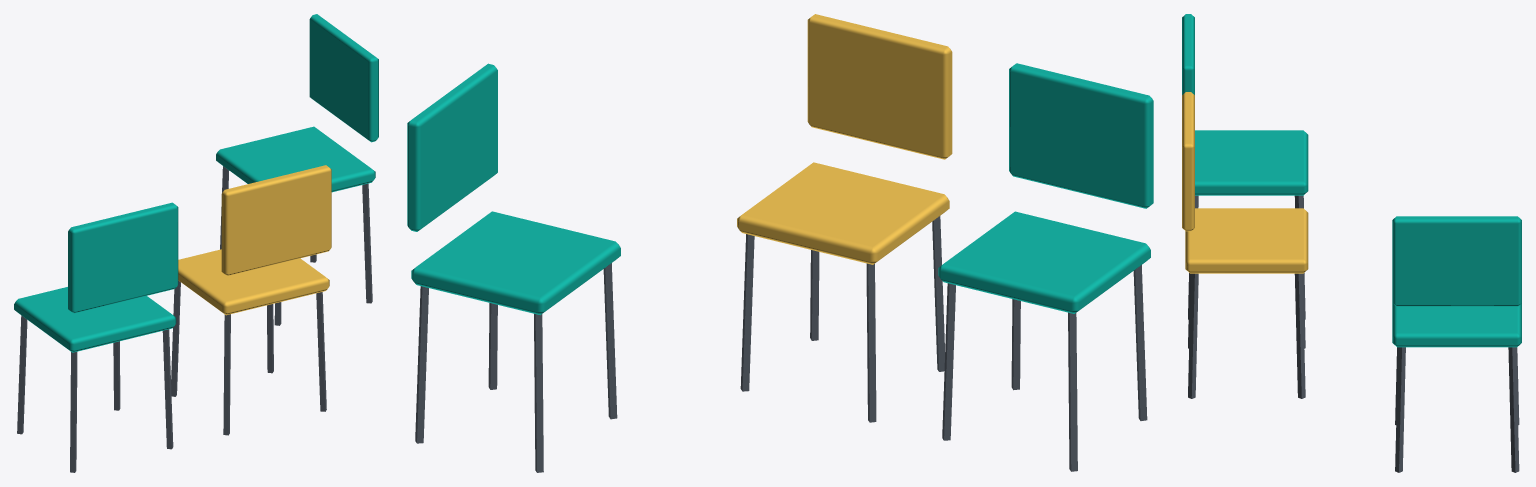
The model's file is station_special_ausstattung_3_1.glb.
3 renders of one model, left to right at view 1: azimuth 30°, elevation 25°; view 2: azimuth 150°, elevation 25°; view 3: azimuth 270°, elevation 25°, orthographic. The views are drawn at different scales.
Visible parts, largest first — view 1: station_special_ausstattung_3_1; view 2: station_special_ausstattung_3_1; view 3: station_special_ausstattung_3_1.
Part boxes in pixels (left/top/right/bottom): station_special_ausstattung_3_1: left=14, top=14, right=378, bottom=472; station_special_ausstattung_3_1: left=407, top=14, right=1153, bottom=472; station_special_ausstattung_3_1: left=1182, top=14, right=1521, bottom=472.
Size of the model in its own units: 1.52 by 0.8703 by 1.05.
